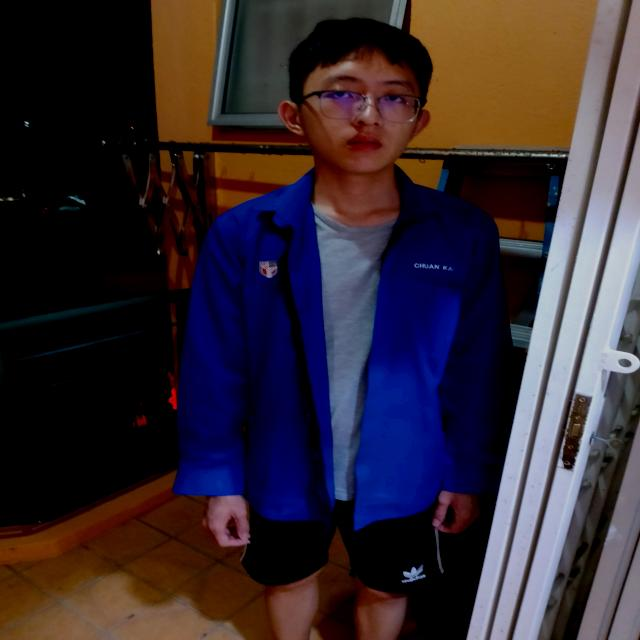person_with_labcoat: (175, 18, 514, 640)
